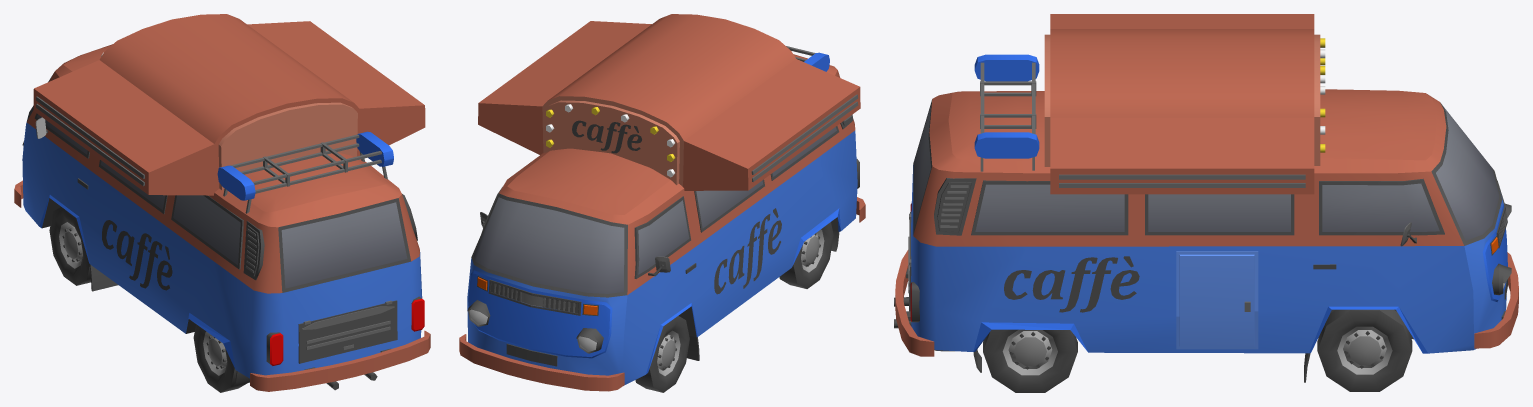
File: car1.glb
3 views of the same model, side by side, from view 1: azimuth 30°, elevation 25°; view 2: azimuth 150°, elevation 25°; view 3: azimuth 270°, elevation 25° (orthographic). The views are drawn at different scales.
Parts seen in each view (by area): view 1: Body_Textures_0, Wheel_FL_Textures_0, Wheel_BL_Textures_0; view 2: Body_Textures_0, Wheel_FL_Textures_0, Wheel_BL_Textures_0; view 3: Body_Textures_0, Wheel_FR_Textures_0, Wheel_BR_Textures_0.
Part boxes in pixels (x1=…): Body_Textures_0: x1=14, y1=14, x2=430, y2=391; Wheel_FL_Textures_0: x1=49, y1=207, x2=90, y2=285; Wheel_BL_Textures_0: x1=193, y1=324, x2=247, y2=392; Body_Textures_0: x1=459, y1=14, x2=865, y2=391; Wheel_FL_Textures_0: x1=635, y1=316, x2=689, y2=392; Wheel_BL_Textures_0: x1=779, y1=222, x2=833, y2=288; Body_Textures_0: x1=894, y1=14, x2=1518, y2=382; Wheel_FR_Textures_0: x1=1317, y1=309, x2=1412, y2=391; Wheel_BR_Textures_0: x1=983, y1=329, x2=1077, y2=392.
Size of the model in its own units: 4.6 by 4.06 by 7.75.
1 material, 1 textured.
